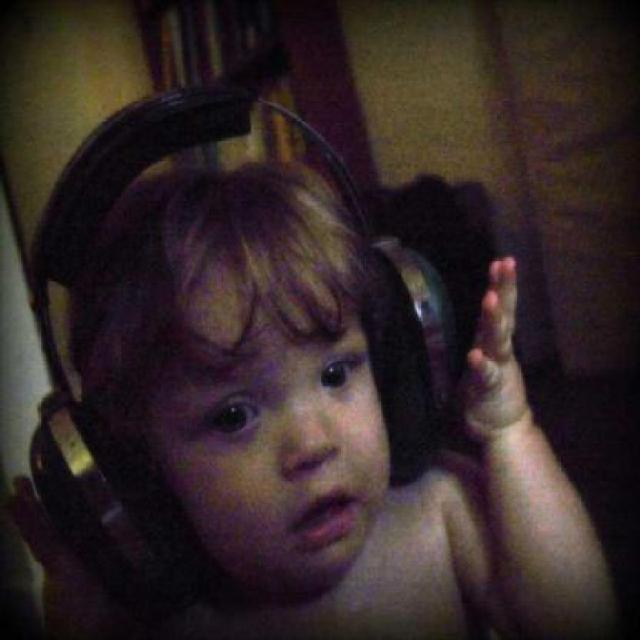earphone: (25, 110, 490, 567)
